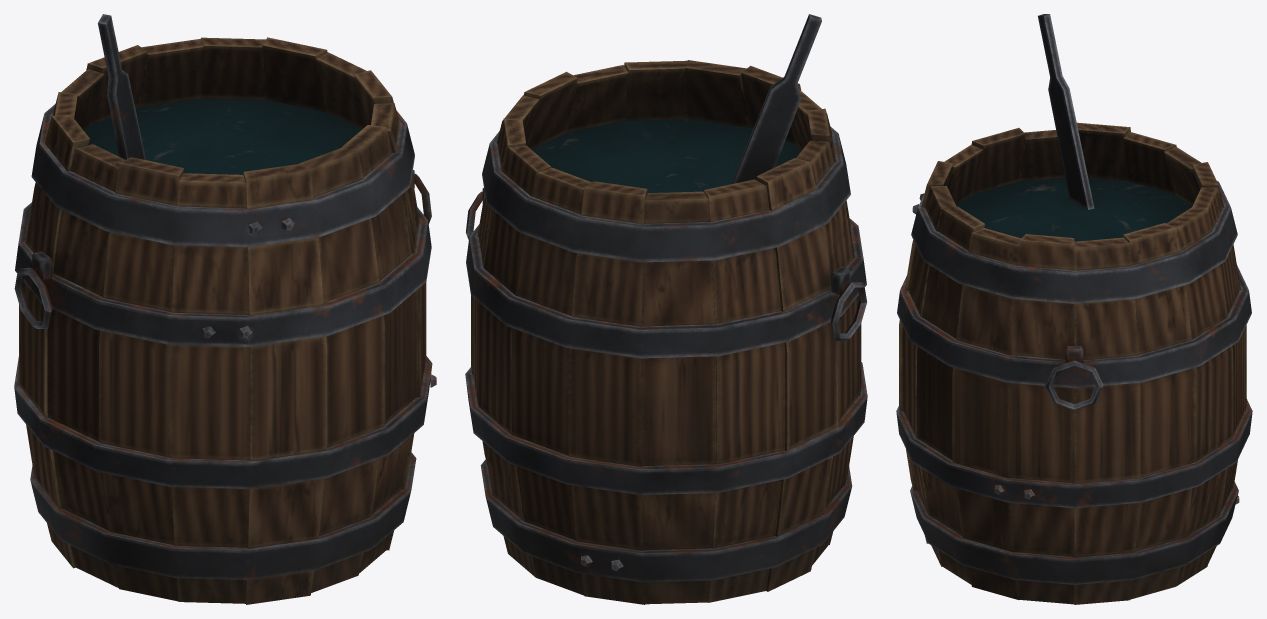
File: forja_barril.fbx
3 renders of one model, left to right at view 1: azimuth 30°, elevation 25°; view 2: azimuth 150°, elevation 25°; view 3: azimuth 270°, elevation 25°, orthographic. The views are drawn at different scales.
Parts seen in each view (by area): view 1: forja_barril; view 2: forja_barril; view 3: forja_barril.
Boxes of the visible parts, x1,y1,x2,y2 form: forja_barril: (14,14,436,604); forja_barril: (465,14,867,604); forja_barril: (896,14,1252,604).
Bounding box in the file's own units: 3.01 × 4.11 × 2.8.
1 material, 1 textured.
